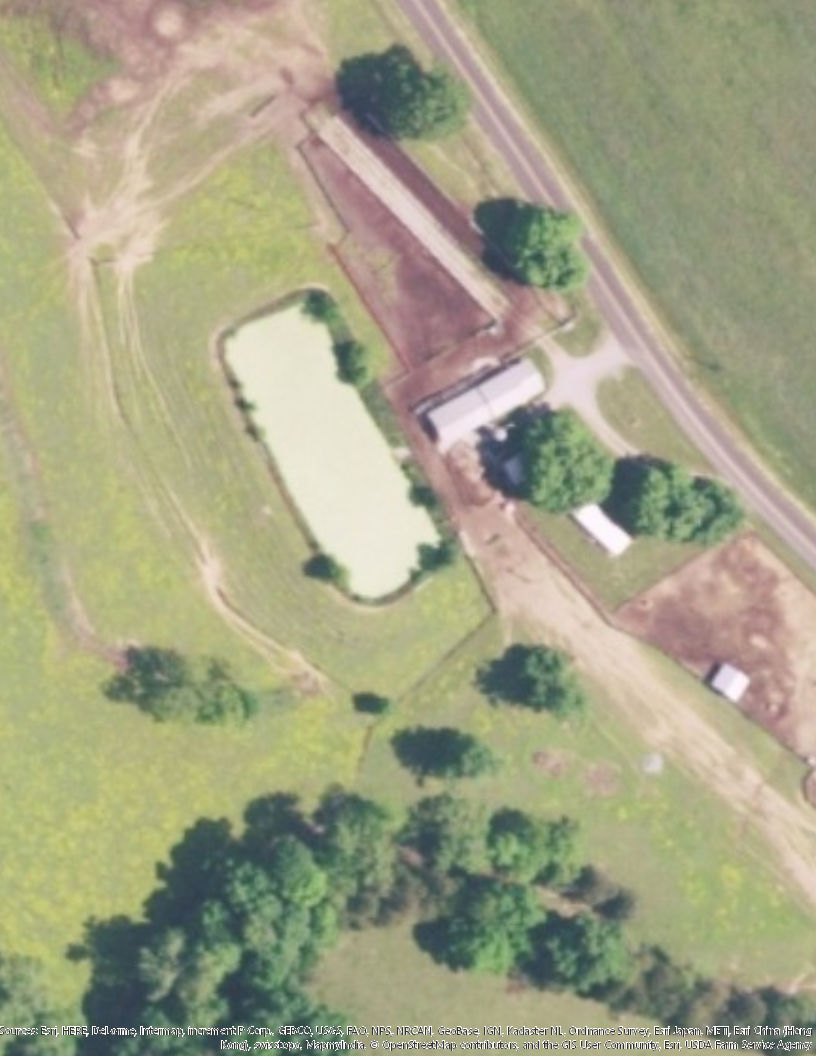cafo: (406, 343, 552, 440)
